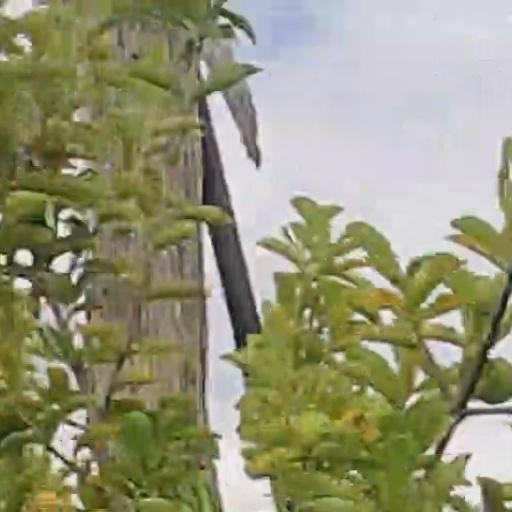acerola: (481, 358, 510, 407)
